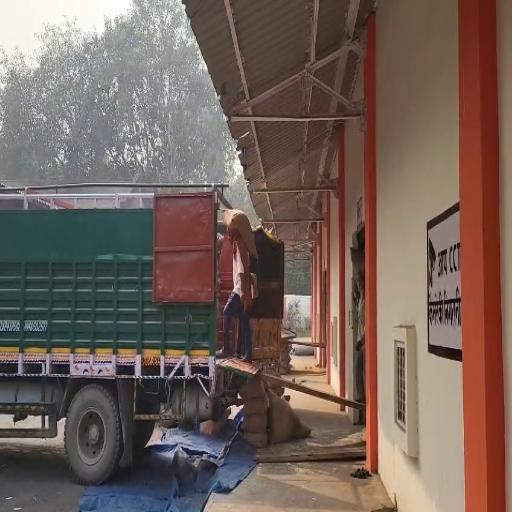bag: (220, 206, 260, 266)
